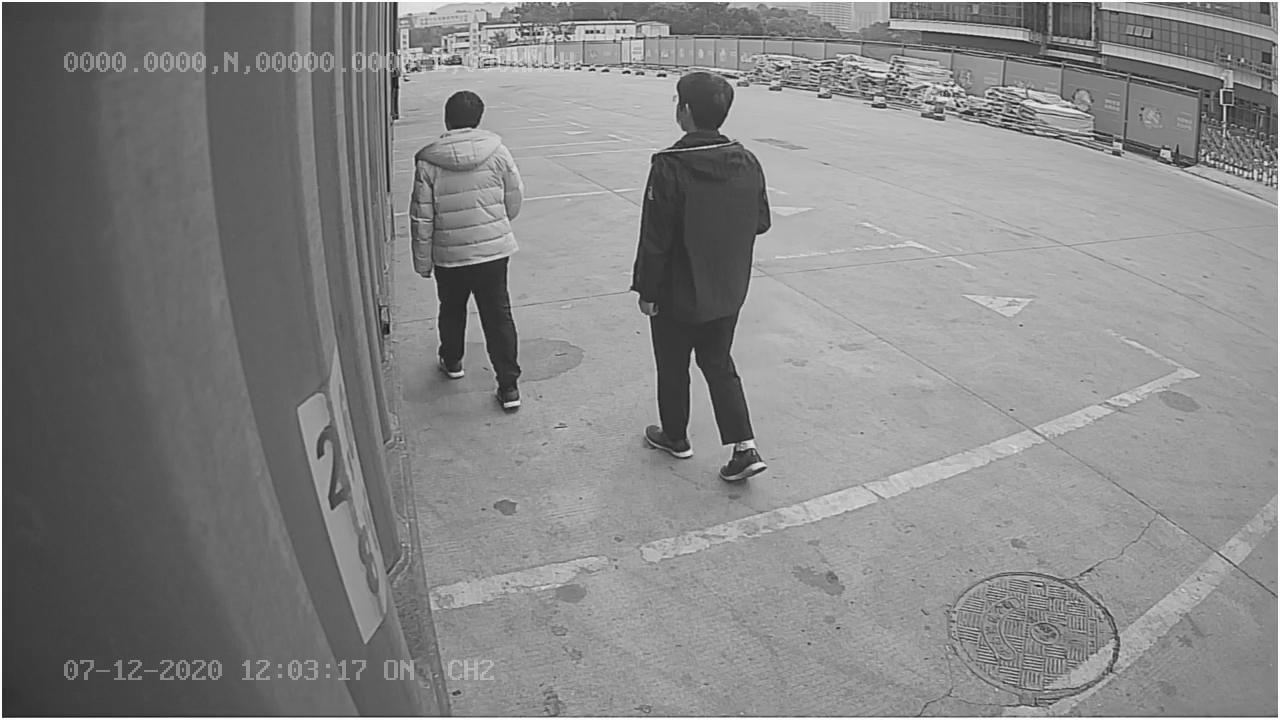person: (629, 71, 770, 482), (409, 85, 536, 414)
